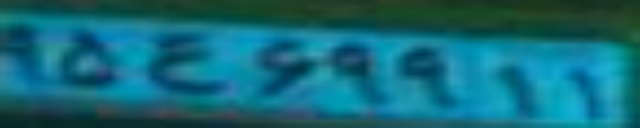1: (559, 67, 610, 119), (490, 64, 539, 117)
5: (58, 26, 116, 87)
6: (248, 39, 317, 99)
9: (327, 42, 392, 105), (396, 47, 461, 108), (1, 24, 50, 87)
ain: (138, 33, 227, 94)
